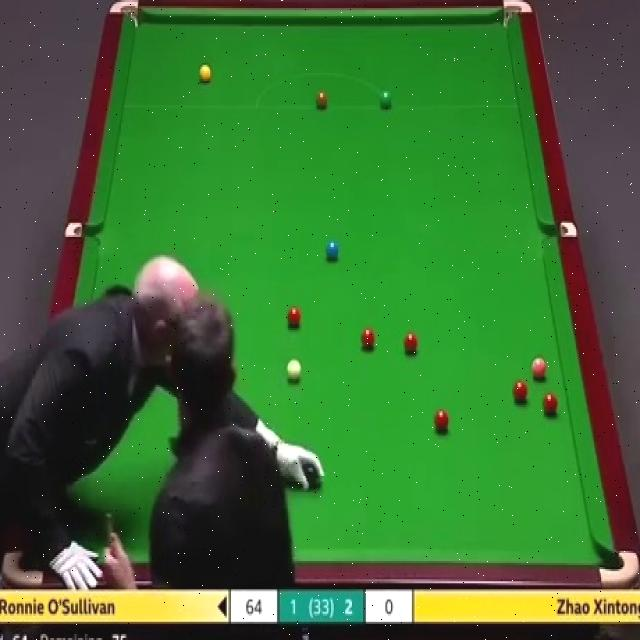black-ball: (302, 463, 319, 488)
blue-ball: (326, 240, 339, 262)
brown-ball: (316, 92, 328, 110)
green-ball: (380, 90, 392, 109)
pink-ball: (532, 355, 548, 381)
red-ball: (432, 408, 450, 434), (404, 329, 419, 354), (360, 327, 375, 351), (513, 381, 528, 402), (288, 303, 301, 327), (544, 394, 557, 417)
white-ball: (285, 357, 302, 385)
yellow-ball: (198, 64, 213, 86)
